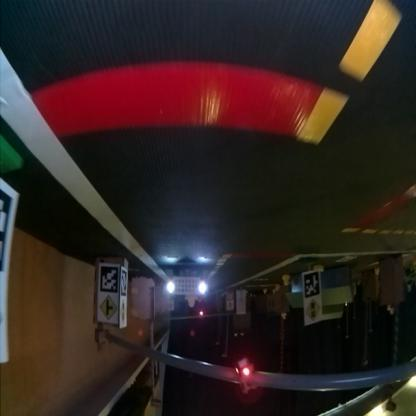Duckie: (188, 300, 197, 308), (284, 278, 290, 286)
Duckiebot: (167, 268, 208, 298)
Intersection sign: (102, 294, 118, 322)
QR code: (102, 266, 119, 294), (303, 274, 320, 296), (122, 268, 128, 298)
Signal sign: (306, 300, 323, 322)
Traffic light: (198, 311, 204, 318)
